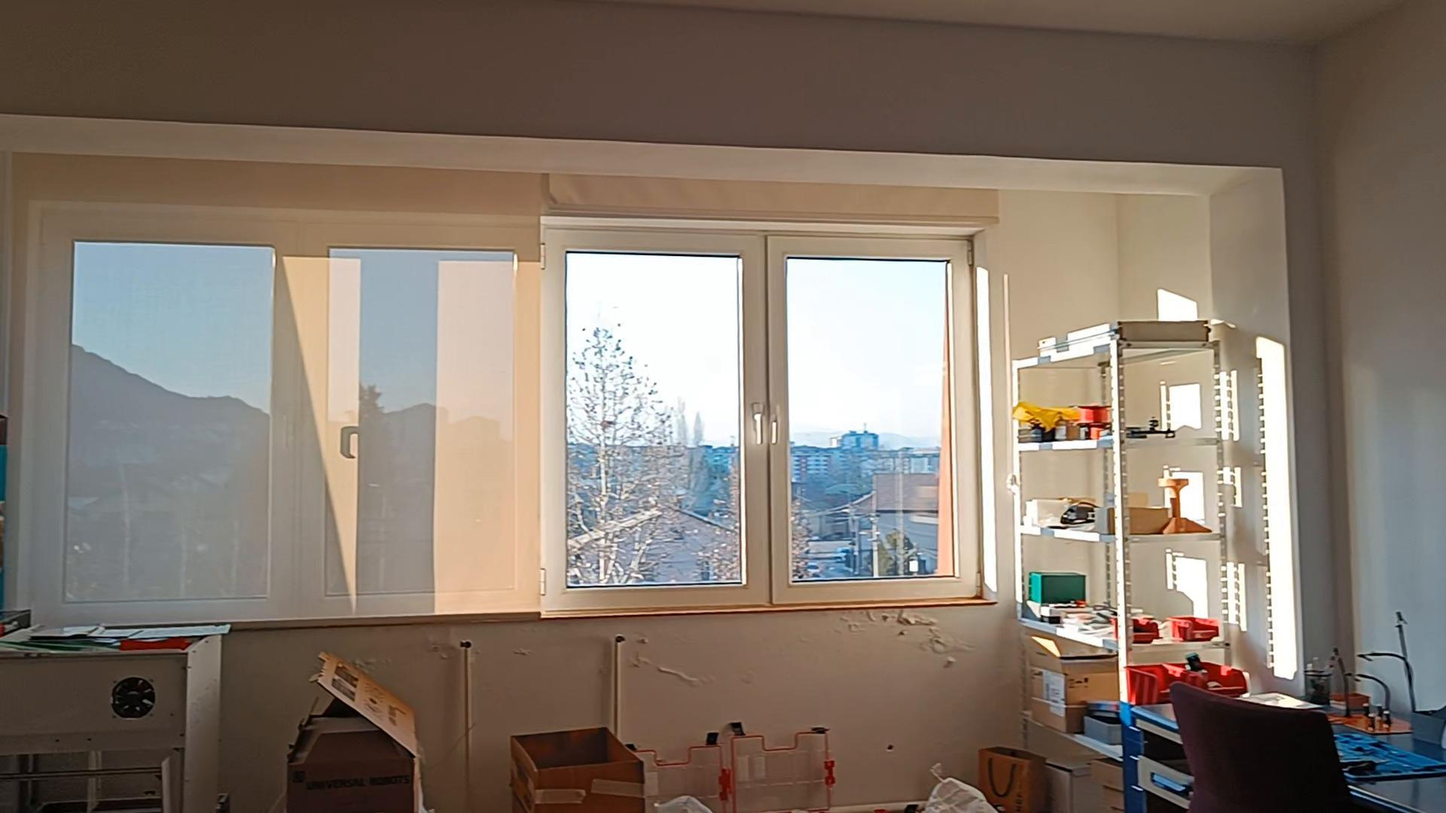ceiling: (587, 0, 1405, 42)
wall: (0, 4, 1445, 716), (471, 609, 1019, 809)
